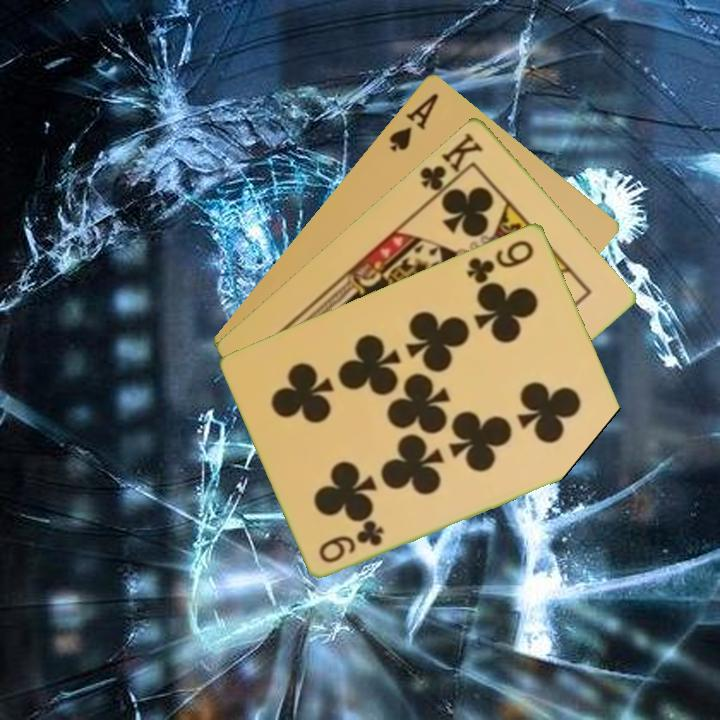9c: (463, 236, 537, 286), (315, 518, 388, 566)
As: (385, 89, 442, 154)
Kc: (416, 128, 486, 202)
